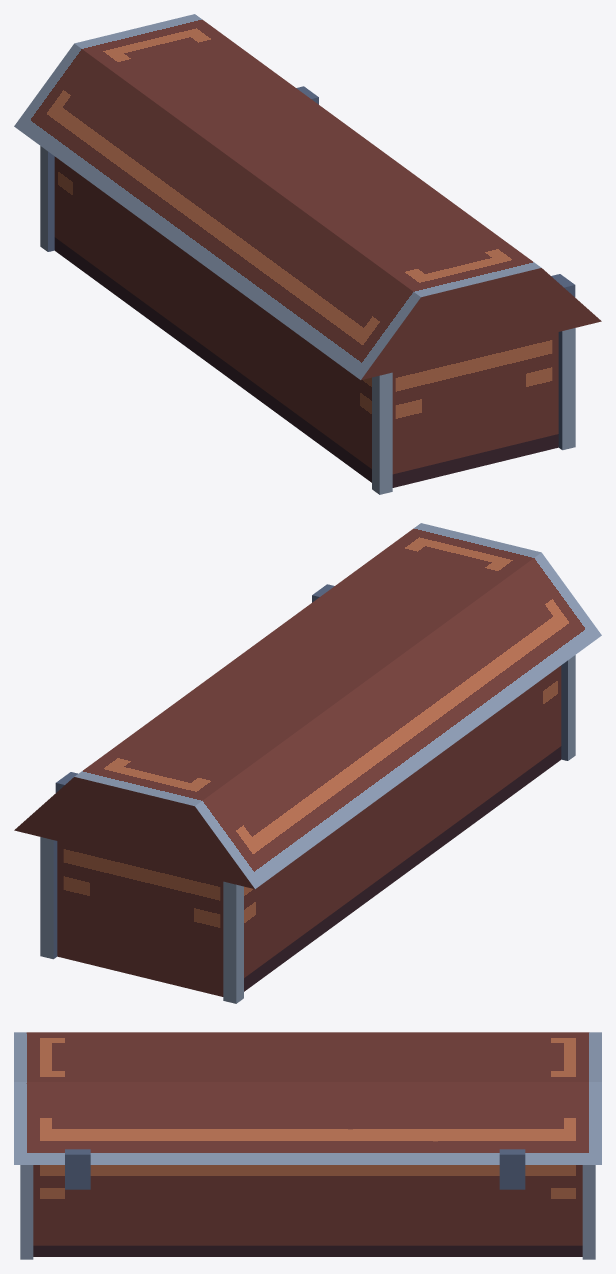
File: Long Box.gltf
3 views of the same model, one above another, from view 1: azimuth 30°, elevation 25°; view 2: azimuth 150°, elevation 25°; view 3: azimuth 270°, elevation 25° (orthographic). The views are drawn at different scales.
Visible parts, largest first — view 1: Lid, Model; view 2: Lid, Model; view 3: Lid, Model.
Boxes of the visible parts, x1=… form: Lid: x1=14, y1=14, x2=601, y2=379; Model: x1=40, y1=146, x2=575, y2=494; Lid: x1=14, y1=523, x2=601, y2=888; Model: x1=40, y1=655, x2=575, y2=1003; Lid: x1=14, y1=1032, x2=601, y2=1189; Model: x1=20, y1=1165, x2=595, y2=1259.
Size of the model in its own units: 1.17 by 0.875 by 2.88.
Materials: 1 (1 with a texture image).
